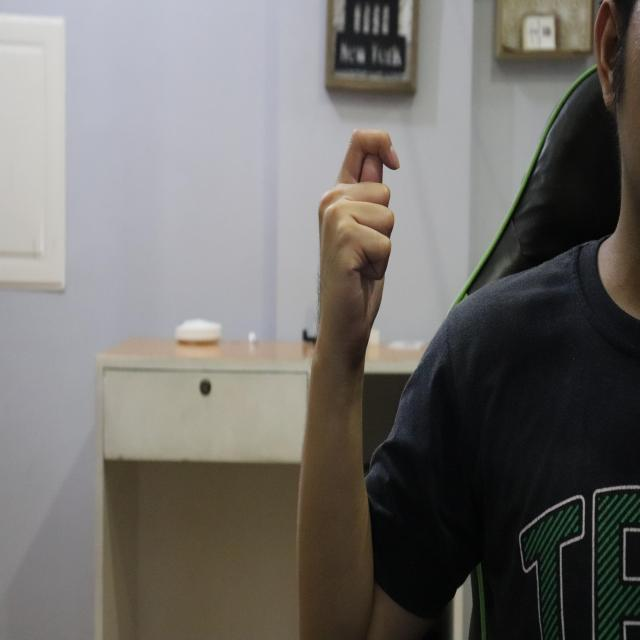T: (317, 126, 401, 356)
